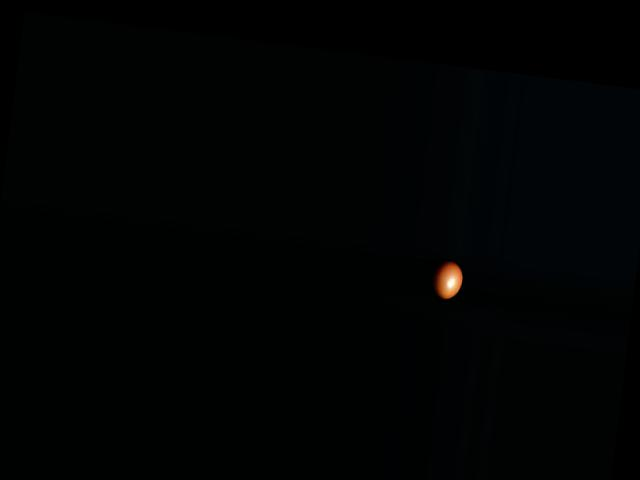egg: (429, 258, 464, 300)
